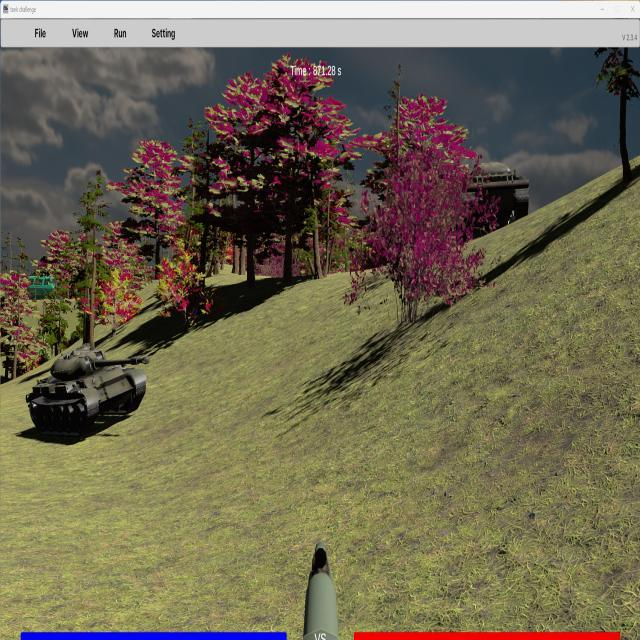Tank: (25, 346, 148, 438), (462, 161, 530, 228)
